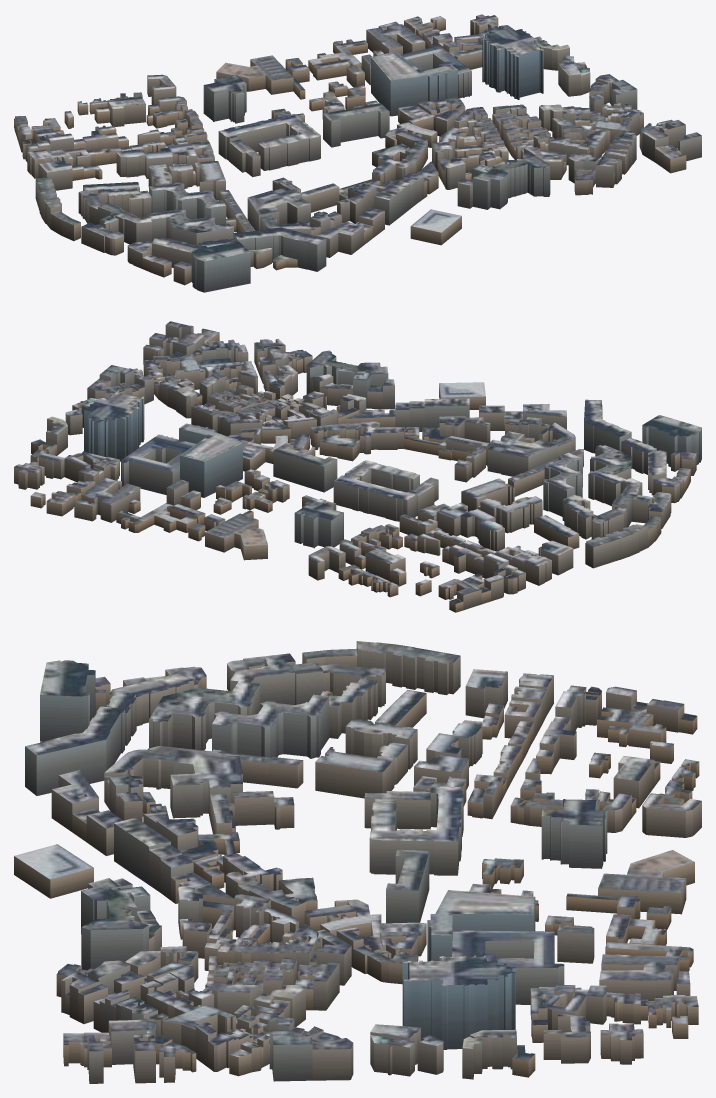
The picture shows the model from 3 angles, top to bottom: view 1: azimuth 30°, elevation 25°; view 2: azimuth 150°, elevation 25°; view 3: azimuth 270°, elevation 25°; orthographic projection. The views are drawn at different scales.
Size of the model in its own units: 598 by 43.49 by 422.
Materials: 2 (2 with a texture image).
